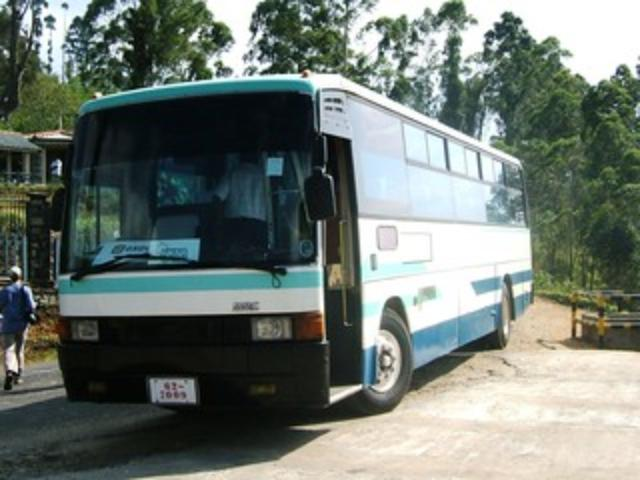bus: (48, 70, 536, 416)
